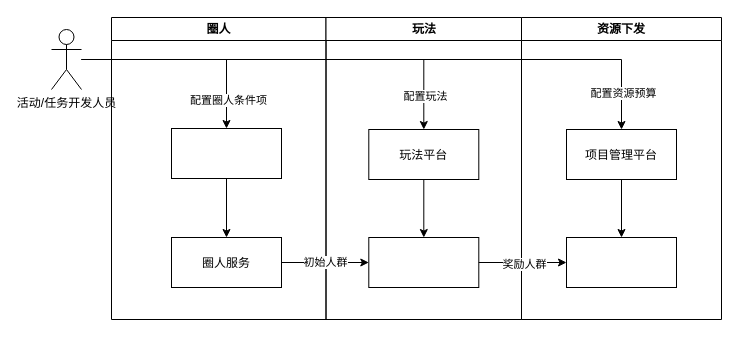
Image size: 739x337. Some labels were removed from this diagram. Each missing label, with the centre of its shape:
圈人平台: point (226, 153)
玩法服务: point (423, 262)
资源下发服务: point (621, 262)
